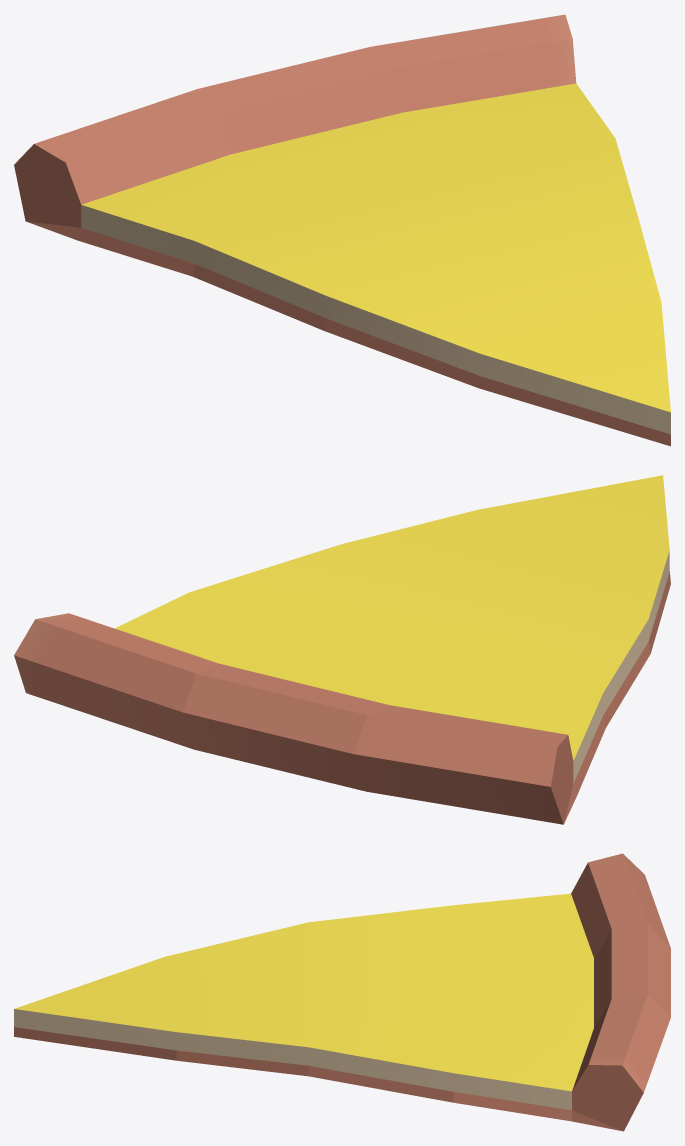
Rendered from Pizza.fbx.
The picture shows the model from 3 angles, top to bottom: view 1: azimuth 30°, elevation 25°; view 2: azimuth 150°, elevation 25°; view 3: azimuth 270°, elevation 25°; orthographic projection. The views are drawn at different scales.
Visible parts, largest first — view 1: Pizza; view 2: Pizza; view 3: Pizza.
Boxes of the visible parts, left/top/right/bottom form: Pizza: left=14, top=14, right=670, bottom=446; Pizza: left=14, top=475, right=670, bottom=824; Pizza: left=14, top=853, right=670, bottom=1131.
Bounding box in the file's own units: 157 × 25.95 × 199.
